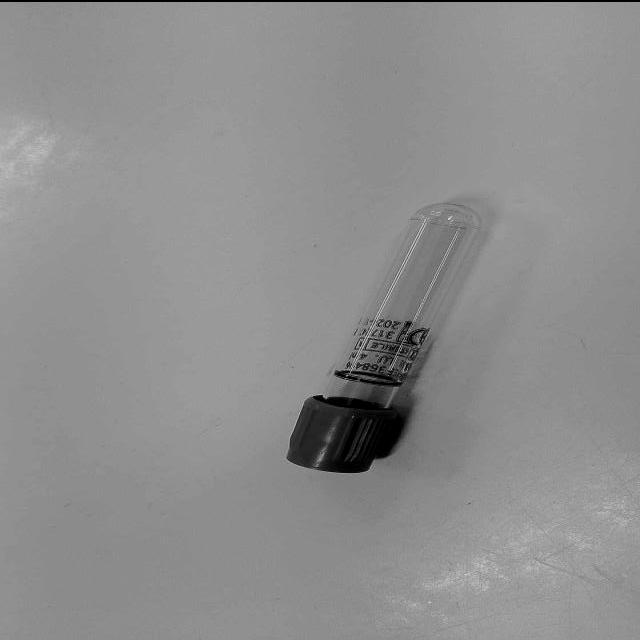Sharps: (284, 200, 483, 473)
